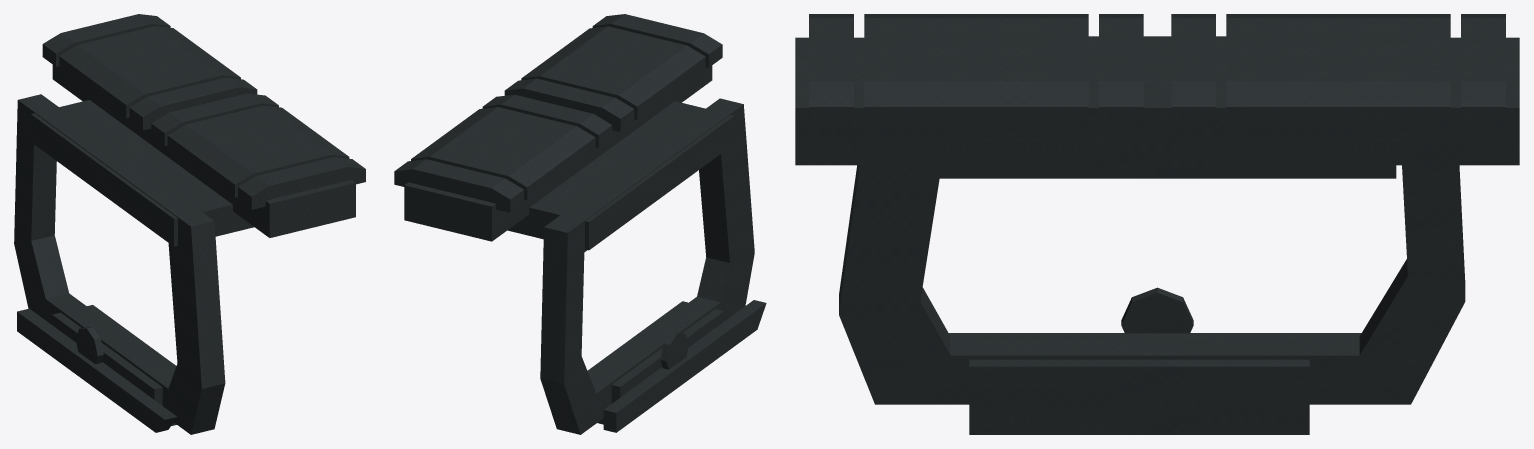
The model's file is svd_mount.glb.
The picture shows the model from 3 angles, left to right: view 1: azimuth 30°, elevation 25°; view 2: azimuth 150°, elevation 25°; view 3: azimuth 270°, elevation 25°; orthographic projection. The views are drawn at different scales.
Parts seen in each view (by area): view 1: mount__svd_mount_LOD0_RAID_Secondary_Original_steel, mount__svd_mount_LOD1_RAID_Secondary_Original_steel; view 2: mount__svd_mount_LOD0_RAID_Secondary_Original_steel, mount__svd_mount_LOD1_RAID_Secondary_Original_steel; view 3: mount__svd_mount_LOD0_RAID_Secondary_Original_steel, mount__svd_mount_LOD1_RAID_Secondary_Original_steel.
Boxes of the visible parts, x1,y1,x2,y2 form: mount__svd_mount_LOD0_RAID_Secondary_Original_steel: (14,14,365,434); mount__svd_mount_LOD1_RAID_Secondary_Original_steel: (59,26,349,197); mount__svd_mount_LOD0_RAID_Secondary_Original_steel: (394,14,766,434); mount__svd_mount_LOD1_RAID_Secondary_Original_steel: (411,26,705,200); mount__svd_mount_LOD0_RAID_Secondary_Original_steel: (795,14,1519,434); mount__svd_mount_LOD1_RAID_Secondary_Original_steel: (864,14,1450,128).
Bounding box in the file's own units: 0.1145 × 0.1605 × 0.24.
1 material, 1 textured.
